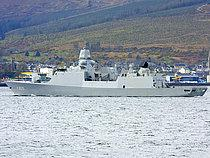MIL_Ship: (4, 40, 209, 99)
